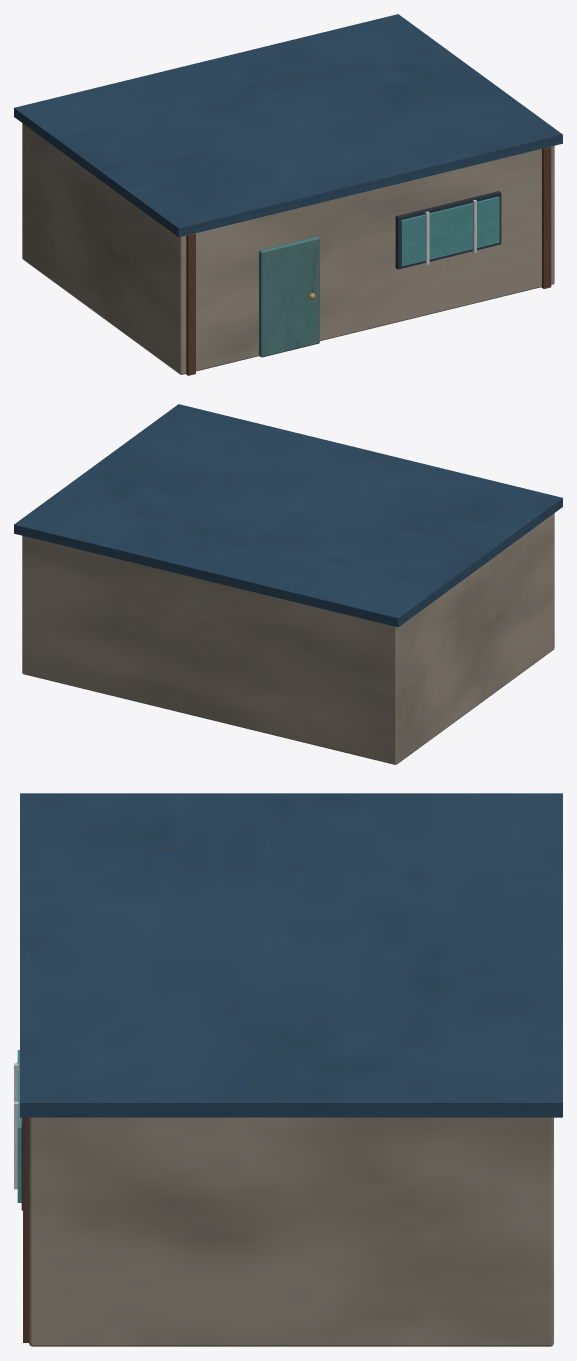
File: HouseA.glb
The picture shows the model from 3 angles, top to bottom: view 1: azimuth 30°, elevation 25°; view 2: azimuth 150°, elevation 25°; view 3: azimuth 270°, elevation 25°; orthographic projection. The views are drawn at different scales.
Parts seen in each view (by area): view 1: Flat roof, Wall mass, Entry, Glazing, Corner pier.001, Corner pier, Recess; view 2: Wall mass, Flat roof; view 3: Flat roof, Wall mass, Corner pier.001.
Boxes of the visible parts, bbox=[...] form: Flat roof: bbox=[14, 14, 562, 237]; Wall mass: bbox=[22, 123, 554, 374]; Entry: bbox=[259, 236, 319, 357]; Glazing: bbox=[400, 196, 499, 266]; Corner pier.001: bbox=[541, 146, 551, 288]; Corner pier: bbox=[186, 233, 195, 375]; Recess: bbox=[395, 191, 501, 269]; Wall mass: bbox=[22, 513, 554, 764]; Flat roof: bbox=[14, 404, 562, 627]; Flat roof: bbox=[20, 793, 562, 1117]; Wall mass: bbox=[29, 1117, 553, 1346]; Corner pier.001: bbox=[23, 1117, 28, 1342].
Size of the model in its own units: 8 by 3 by 6.
8 materials, 8 textured.
